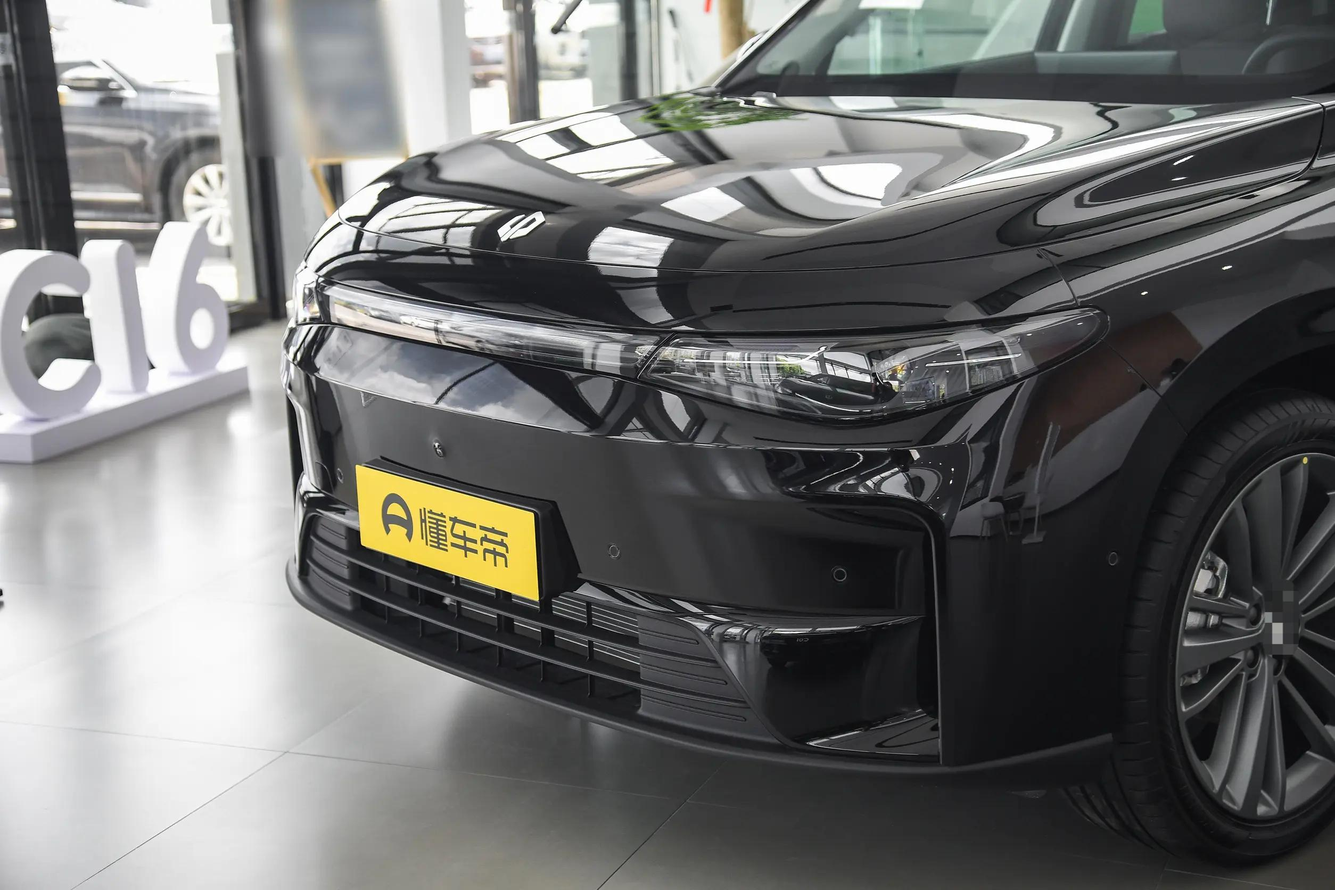LEAPMOTOR: (497, 210, 547, 243)
